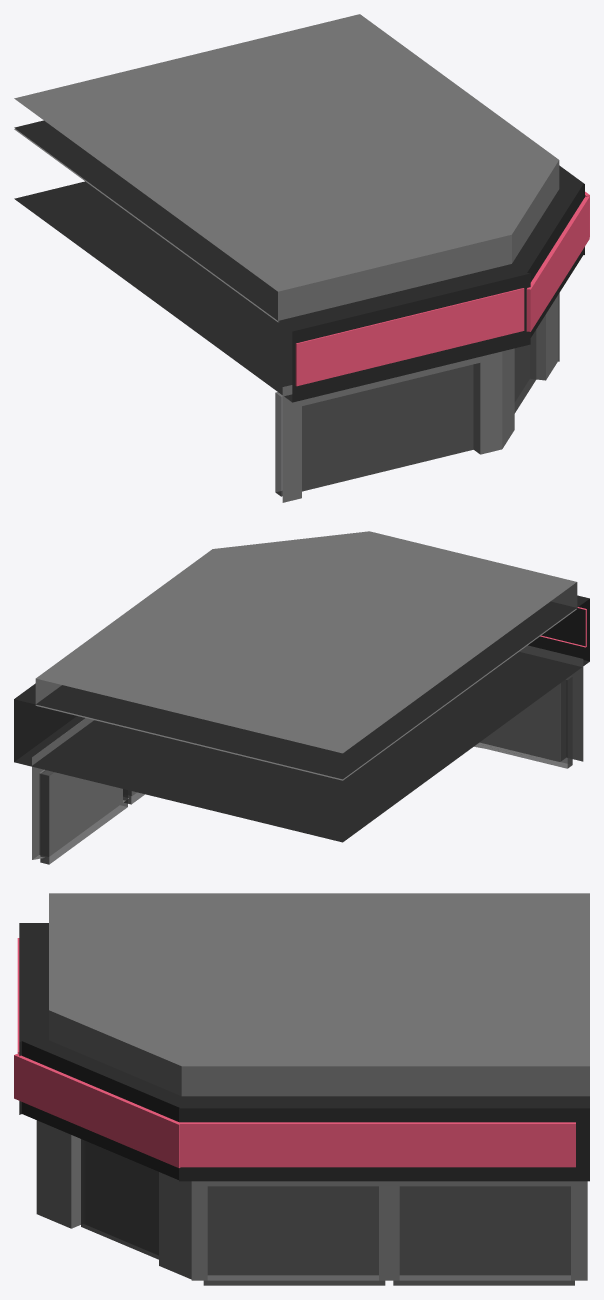
Rendered from edificio 4.fbx.
3 renders of one model, top to bottom at view 1: azimuth 30°, elevation 25°; view 2: azimuth 150°, elevation 25°; view 3: azimuth 270°, elevation 25°, orthographic. The views are drawn at different scales.
Visible parts, largest first — view 1: BASE, Cartel, Puertas y Ventanas, Cartel2; view 2: BASE, Cartel, Puertas y Ventanas; view 3: BASE, Puertas y Ventanas, Cartel, Cartel2.
Part boxes in pixels (<box>): BASE: <box>14,14,559,502</box>; Cartel: <box>14,120,584,402</box>; Puertas y Ventanas: <box>275,330,536,496</box>; Cartel2: <box>295,191,589,386</box>; BASE: <box>32,531,583,859</box>; Cartel: <box>14,595,589,842</box>; Puertas y Ventanas: <box>40,676,572,864</box>; BASE: <box>36,893,589,1280</box>; Puertas y Ventanas: <box>81,1139,574,1285</box>; Cartel: <box>19,923,589,1181</box>; Cartel2: <box>14,938,575,1167</box>.
Size of the model in its own units: 681 by 368 by 879.
